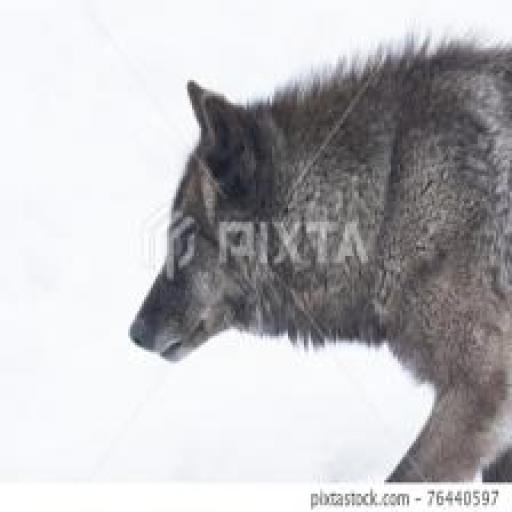wolf: (125, 0, 512, 477)
